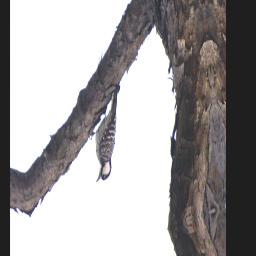Woodpecker: (82, 77, 133, 191)
